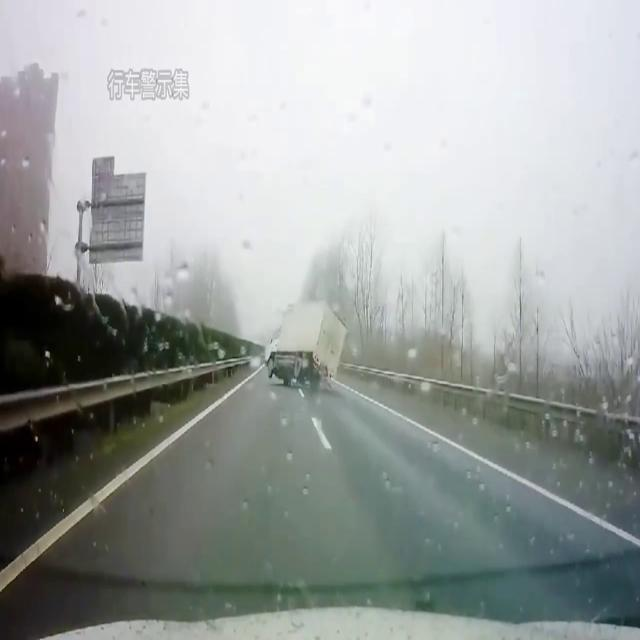single accident: (242, 294, 379, 390)
